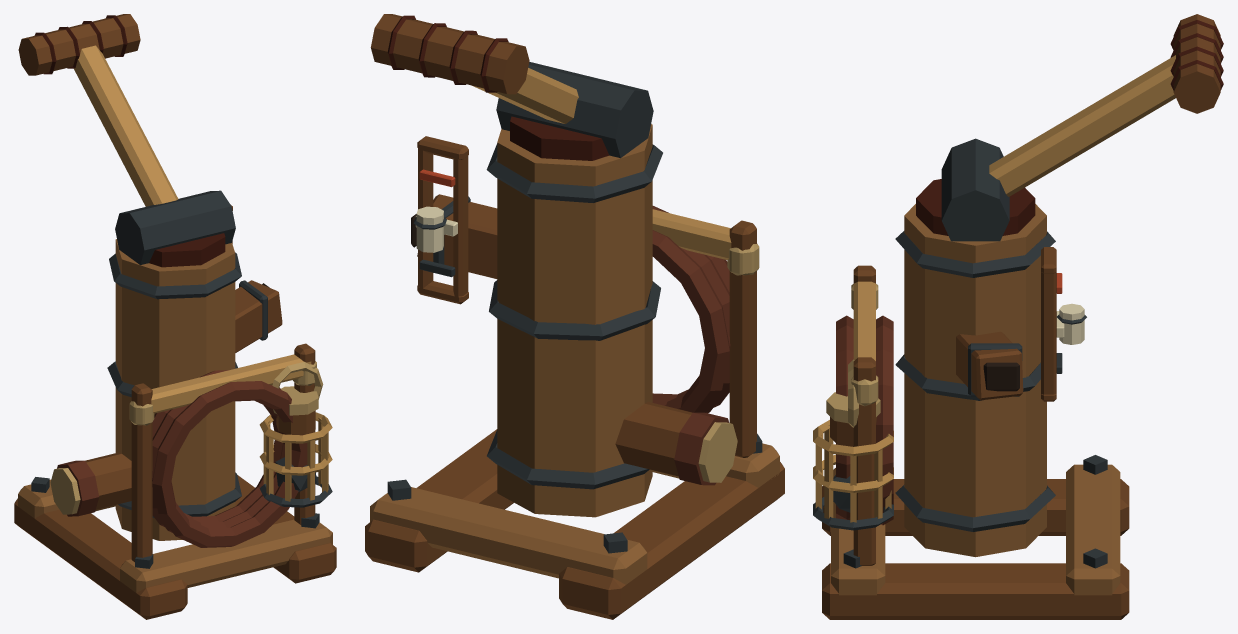
File: manual_bilge_pump.glb
3 views of the same model, side by side, from view 1: azimuth 30°, elevation 25°; view 2: azimuth 150°, elevation 25°; view 3: azimuth 270°, elevation 25° (orthographic). The views are drawn at different scales.
Visible parts, largest first — view 1: PumpBody, PumpBase, HoseCoil, HoseCradle, IntakeHead, LeverArm, LeverPivotHousing, LeverGrip, IntakeCoupling, IronHoops, DischargeDale, LeatherTopPacking (+1 smaller); view 2: PumpBody, PumpBase, IronHoops, HoseCradle, LeverGrip, IntakeCoupling, HoseCoil, LeverPivotHousing, CadenceRack, DischargeDale, LeatherTopPacking, LeverArm (+3 smaller); view 3: PumpBody, PumpBase, LeverArm, IntakeHead, IronHoops, HoseCradle, LeverPivotHousing, HoseCoil, LeverGrip, DischargeDale, CadenceRack, LeatherTopPacking (+2 smaller).
Boxes of the visible parts, box(x1,y1,x2,y2) form: PumpBody: box(115, 239, 235, 540); PumpBase: box(14, 475, 336, 619); HoseCoil: box(152, 370, 307, 547); HoseCradle: box(129, 343, 316, 562); IntakeHead: box(259, 362, 332, 507); LeverArm: box(73, 45, 178, 206); LeverPivotHousing: box(115, 190, 235, 264); LeverGrip: box(18, 14, 140, 75); IntakeCoupling: box(50, 452, 131, 516); IronHoops: box(107, 252, 241, 517); DischargeDale: box(235, 280, 282, 352); LeatherTopPacking: box(149, 233, 225, 267); PumpBody: box(497, 124, 652, 517); PumpBase: box(365, 429, 784, 619); IronHoops: box(486, 143, 662, 489); HoseCradle: box(652, 209, 759, 457); LeverGrip: box(370, 14, 529, 94); IntakeCoupling: box(615, 402, 737, 485); HoseCoil: box(652, 206, 730, 413); LeverPivotHousing: box(496, 62, 653, 158); CadenceRack: box(417, 136, 468, 304); DischargeDale: box(411, 194, 497, 278); LeatherTopPacking: box(510, 116, 609, 160); LeverArm: box(472, 68, 578, 123); PumpBody: box(904, 204, 1046, 557); PumpBase: box(822, 464, 1129, 619); LeverArm: box(989, 55, 1175, 196); IntakeHead: box(813, 359, 893, 530); IronHoops: box(895, 231, 1055, 531); HoseCradle: box(851, 265, 878, 565); LeverPivotHousing: box(941, 138, 1009, 241); HoseCoil: box(836, 315, 893, 525); LeverGrip: box(1170, 14, 1223, 113); DischargeDale: box(956, 331, 1023, 400); CadenceRack: box(1041, 247, 1056, 401); LeatherTopPacking: box(916, 179, 1035, 235).
Size of the model in its own units: 0.6549 by 1.29 by 0.9084.
